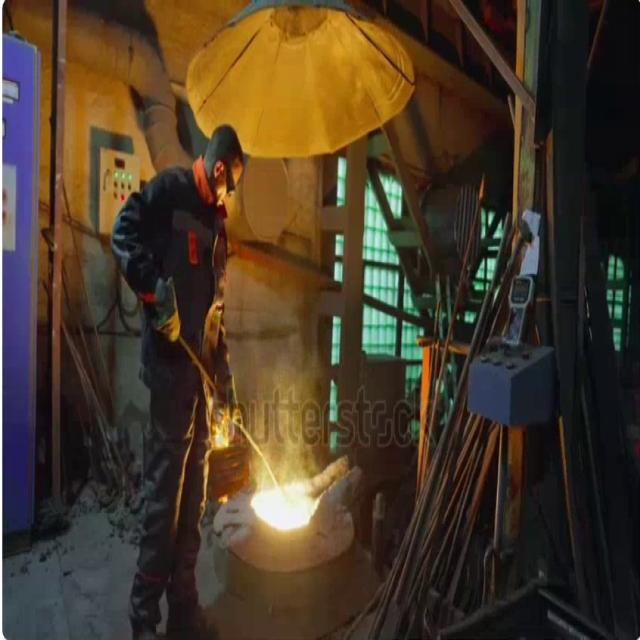gloved: (144, 275, 181, 343)
